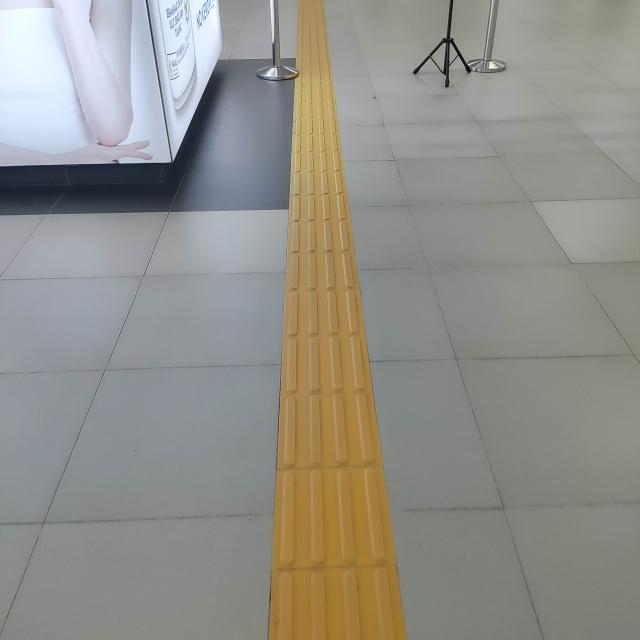lurus: (264, 48, 392, 640)
